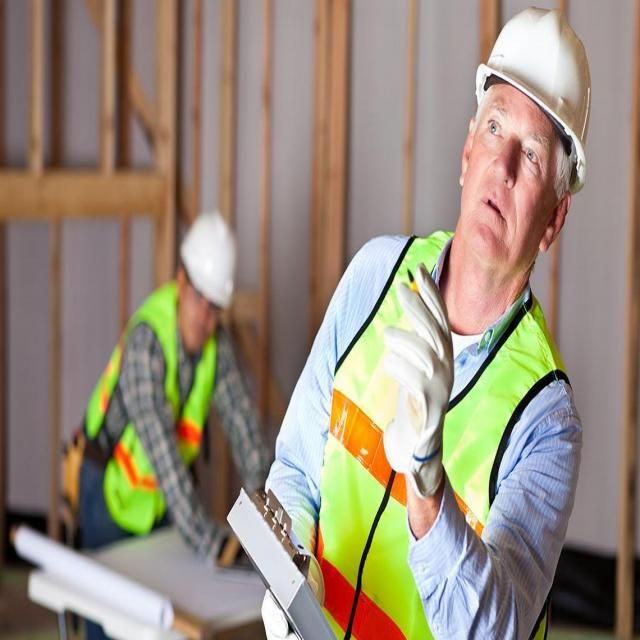Reflective-Jacket: (310, 243, 568, 632), (72, 284, 222, 538)
Safety-Helmet: (476, 5, 594, 177), (174, 207, 244, 316)
